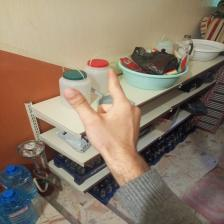five: (66, 66, 141, 168)
